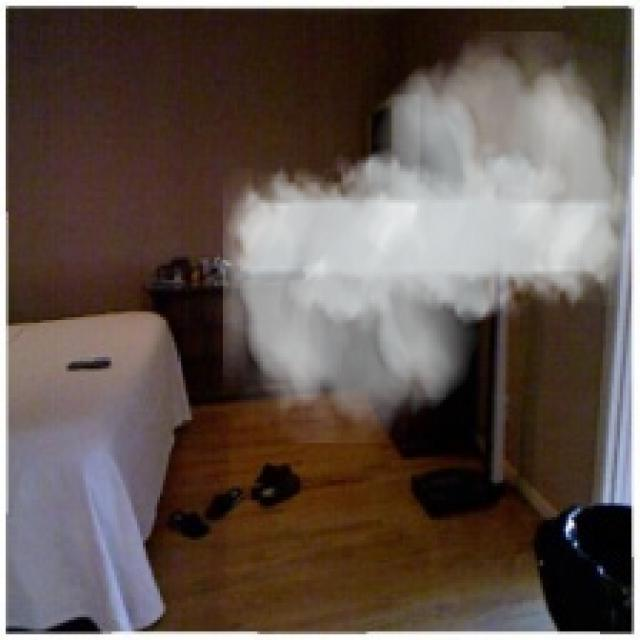Smoke: (223, 31, 632, 443)
